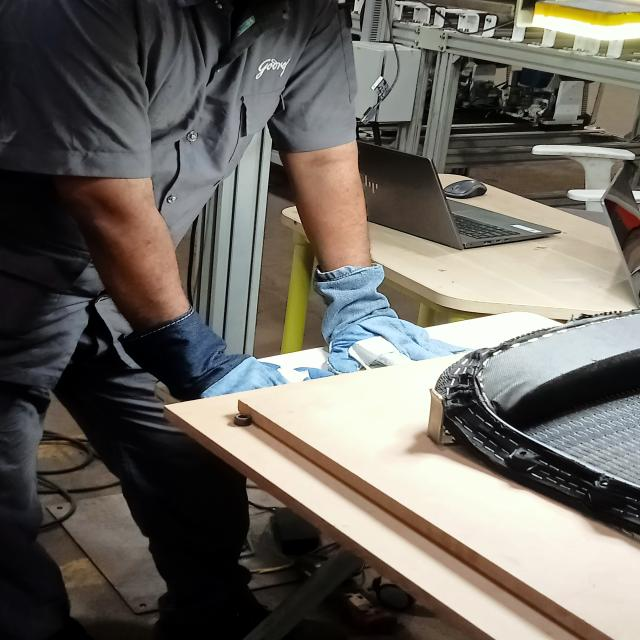Gloves-Detection: (304, 252, 445, 376), (116, 309, 265, 403)
